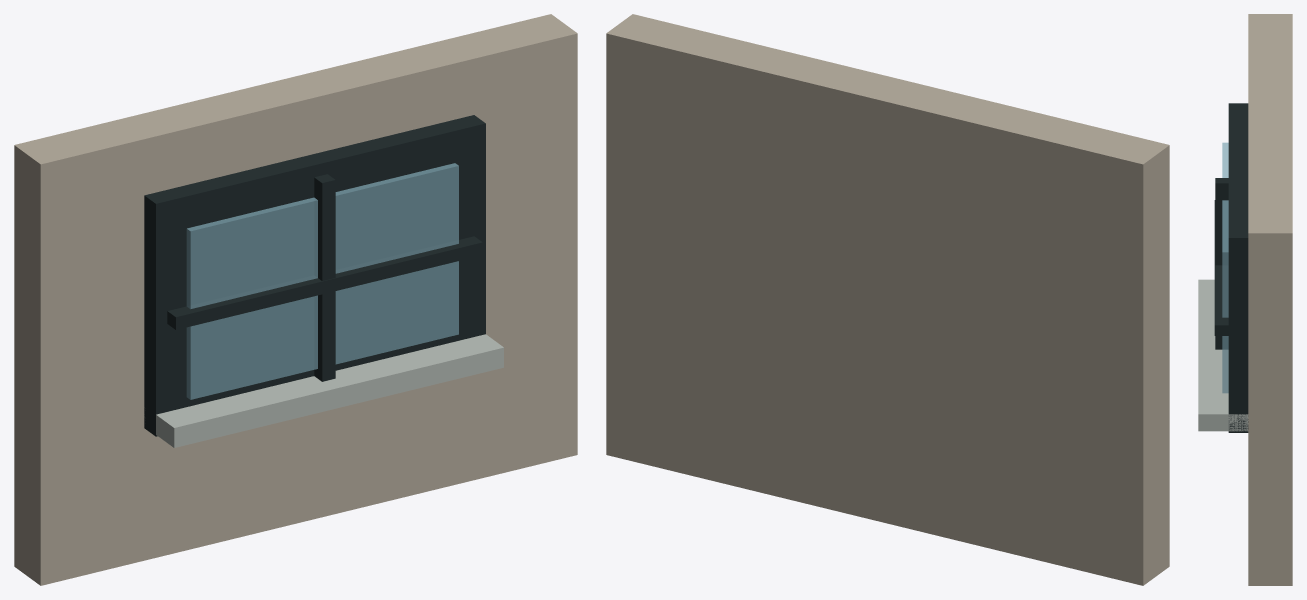
Rendered from component-wall-window-panel.glb.
3 renders of one model, left to right at view 1: azimuth 30°, elevation 25°; view 2: azimuth 150°, elevation 25°; view 3: azimuth 270°, elevation 25°, orthographic. The views are drawn at different scales.
Visible parts, largest first — view 1: base_wall, window_frame, window_glass, sill, window_mullion_h, window_mullion_v; view 2: base_wall; view 3: base_wall, window_frame, sill, window_glass, window_mullion_v, window_mullion_h.
Boxes of the visible parts, x1=… form: base_wall: x1=14, y1=14, x2=577, y2=585; window_frame: x1=144, y1=115, x2=485, y2=436; window_glass: x1=186, y1=163, x2=458, y2=399; sill: x1=156, y1=334, x2=503, y2=447; window_mullion_h: x1=167, y1=236, x2=482, y2=329; window_mullion_v: x1=314, y1=174, x2=335, y2=381; base_wall: x1=606, y1=14, x2=1169, y2=585; base_wall: x1=1248, y1=14, x2=1292, y2=585; window_frame: x1=1228, y1=103, x2=1248, y2=432; sill: x1=1198, y1=279, x2=1248, y2=431; window_glass: x1=1222, y1=142, x2=1228, y2=393; window_mullion_v: x1=1215, y1=178, x2=1228, y2=349; window_mullion_h: x1=1214, y1=200, x2=1228, y2=335.
Bounding box in the file's own units: 1.4 × 1.05 × 0.255.
